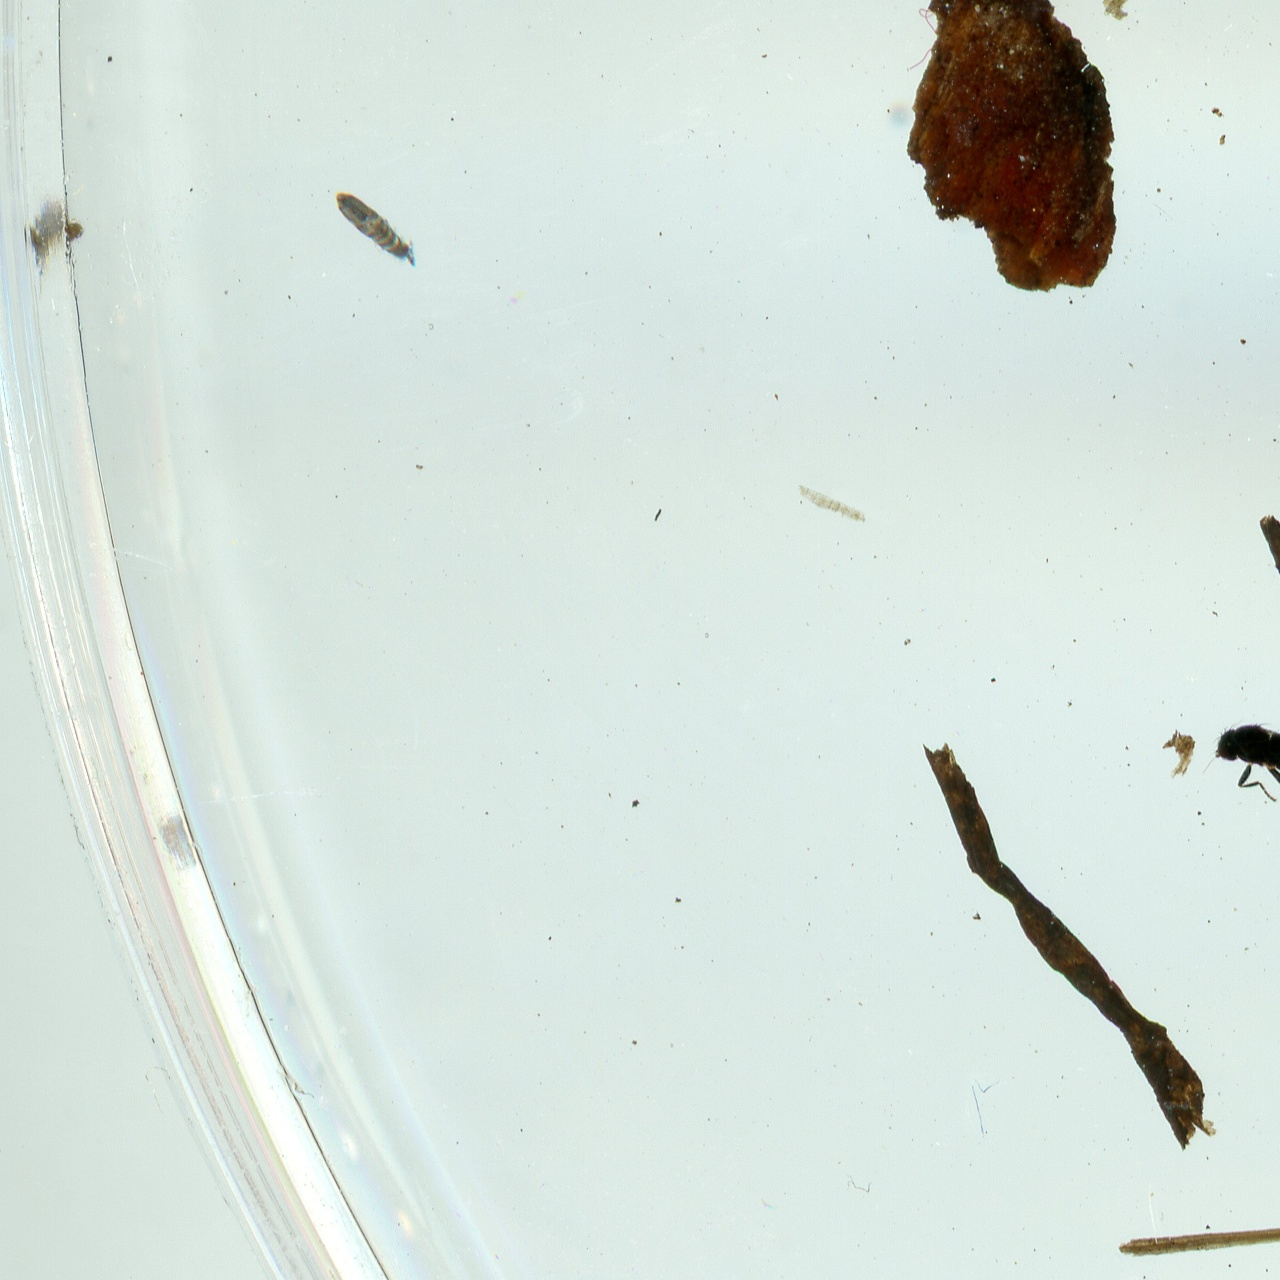arthropod: (319, 173, 435, 286), (1196, 712, 1280, 823)
